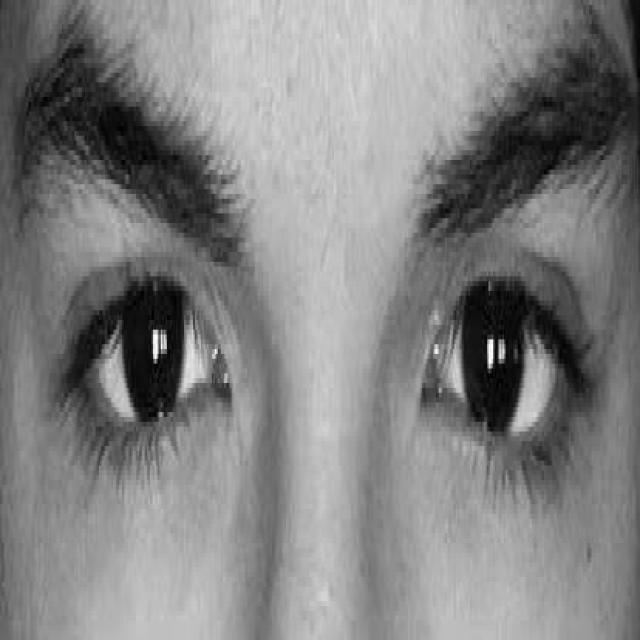real: (26, 76, 618, 618)
